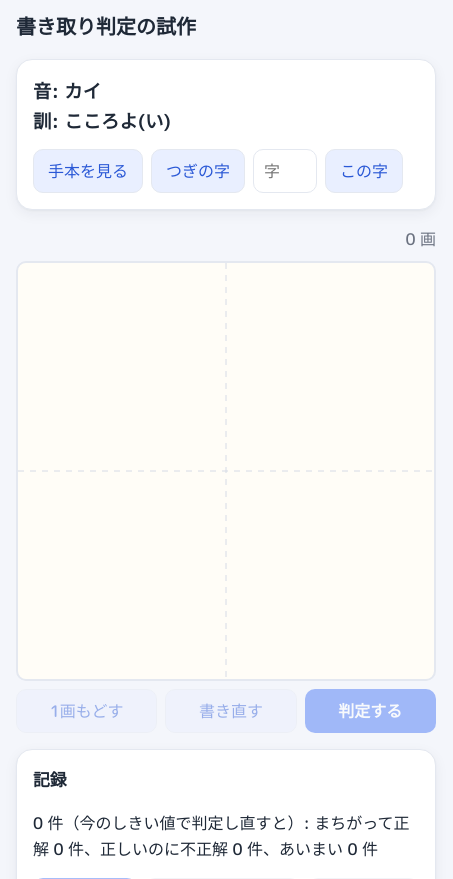
書くマス › [HWR-06] 書いている途中に2本目の指が触れても線を書かない
Press the mouse on the drawing with test id "writing-pad" at (226, 470), box x1=16 y1=260 x2=436 y2=680
Press the mouse on the drawing with test id "writing-pad" at (226, 470), box x1=16 y1=260 x2=436 y2=680
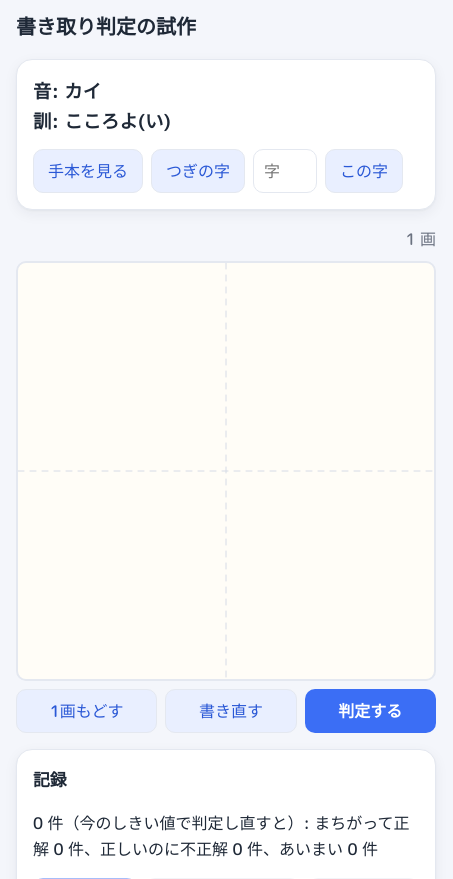
expect the text "1 画" is shown: met, box x1=406 y1=228 x2=436 y2=250
